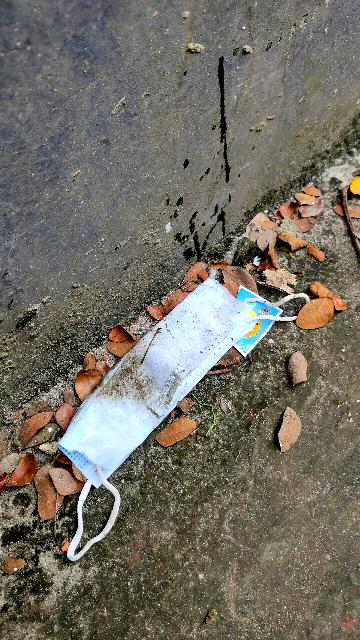mask: (30, 241, 266, 579)
